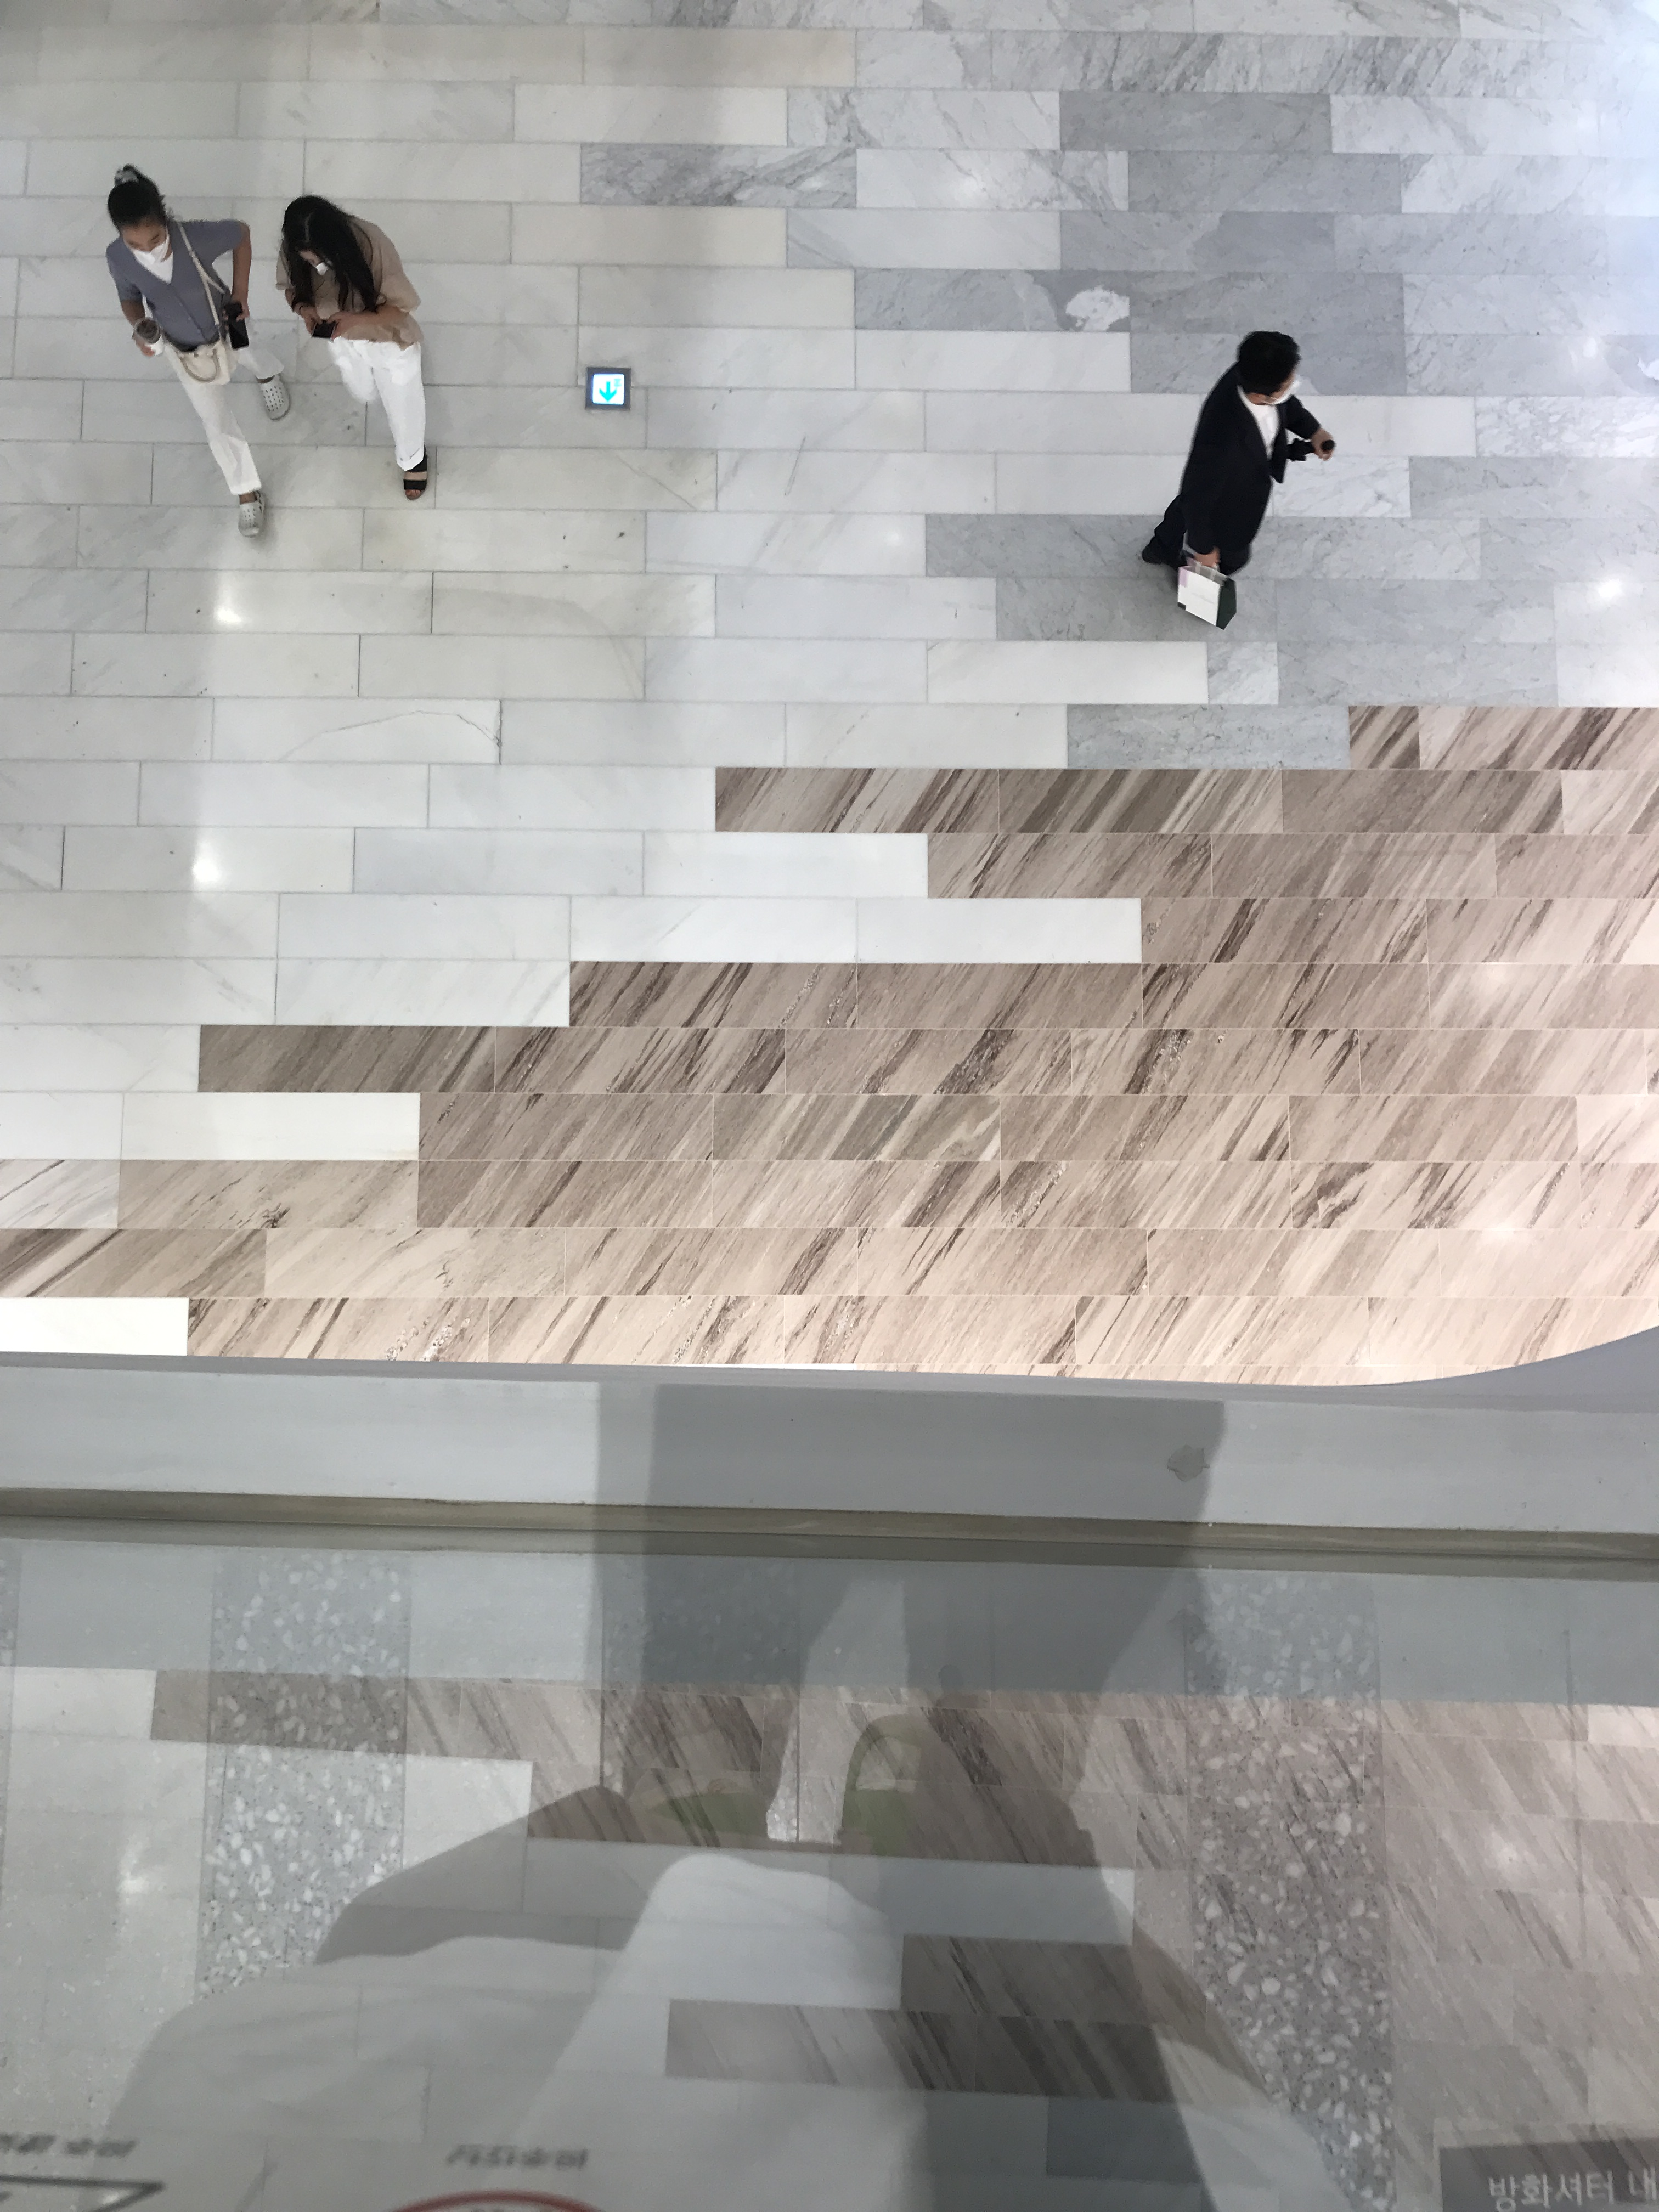person: (97, 166, 291, 540), (1136, 324, 1336, 632), (273, 195, 443, 511)
